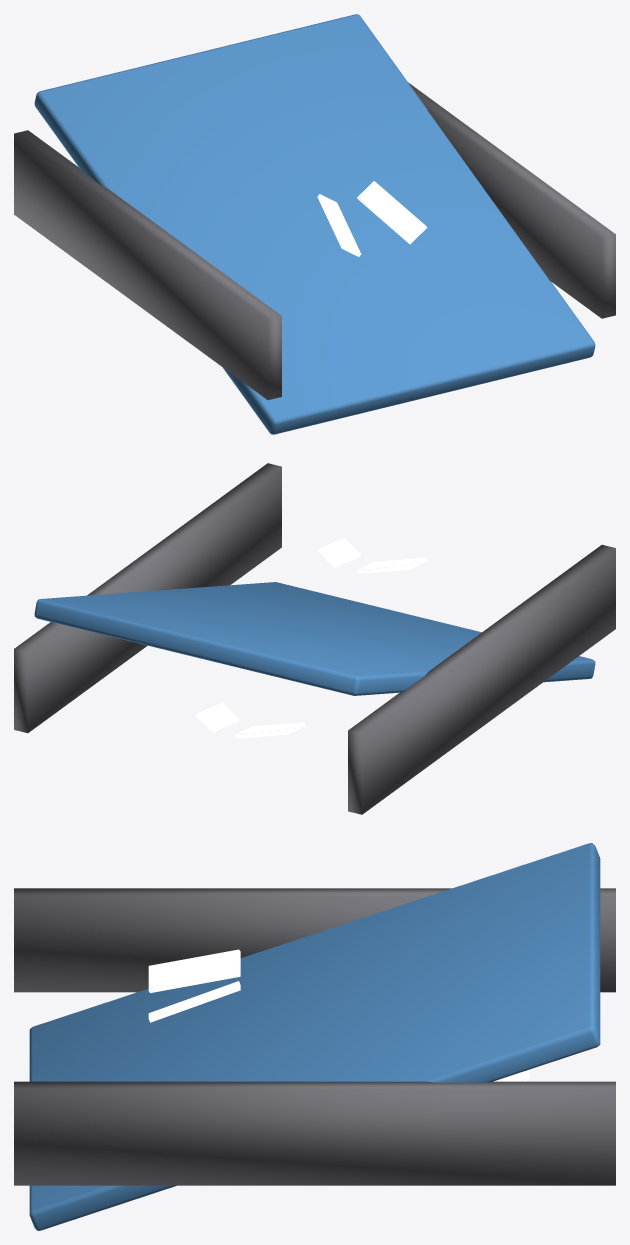
File: jump_ramp.glb
3 views of the same model, one above another, from view 1: azimuth 30°, elevation 25°; view 2: azimuth 150°, elevation 25°; view 3: azimuth 270°, elevation 25° (orthographic). The views are drawn at different scales.
Visible parts, largest first — view 1: RampSurface, RampSide_-0.95, RampSide_0.95, ChevR_0, ChevL_0; view 2: RampSurface, RampSide_-0.95, RampSide_0.95, ChevR_0, ChevR_2, ChevL_2, ChevL_0; view 3: RampSurface, RampSide_0.95, RampSide_-0.95, ChevL_0, ChevR_0.
Part boxes in pixels (left/top/right/bottom): RampSurface: left=34, top=14, right=595, bottom=434; RampSide_-0.95: left=14, top=130, right=281, bottom=400; RampSide_0.95: left=408, top=82, right=615, bottom=318; ChevR_0: left=357, top=181, right=427, bottom=244; ChevL_0: left=317, top=194, right=361, bottom=256; RampSurface: left=34, top=582, right=595, bottom=695; RampSide_-0.95: left=348, top=544, right=615, bottom=814; RampSide_0.95: left=14, top=463, right=281, bottom=733; ChevR_0: left=317, top=538, right=361, bottom=567; ChevR_2: left=195, top=702, right=239, bottom=732; ChevL_2: left=235, top=722, right=305, bottom=738; ChevL_0: left=357, top=557, right=427, bottom=573; RampSurface: left=29, top=843, right=600, bottom=1230; RampSide_0.95: left=14, top=1081, right=615, bottom=1185; RampSide_-0.95: left=14, top=888, right=615, bottom=992; ChevL_0: left=148, top=949, right=240, bottom=992; ChevR_0: left=148, top=981, right=240, bottom=1022.
Size of the model in its own units: 1.98 by 0.9353 by 2.5.
